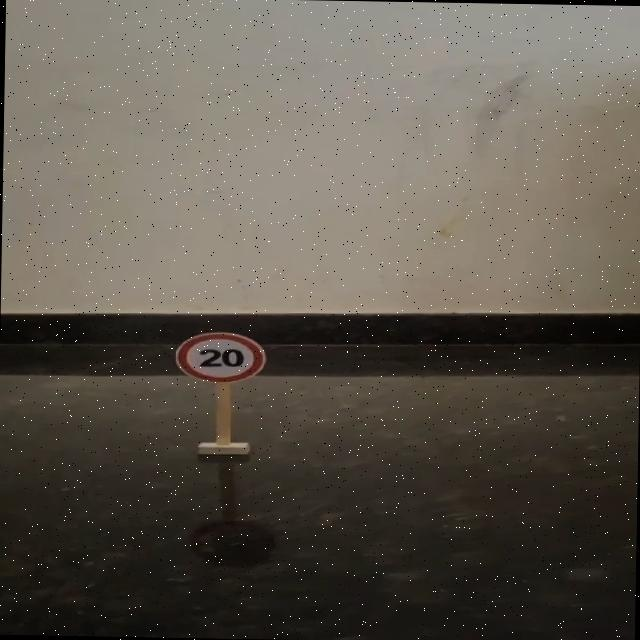Speed20: (167, 326, 274, 387)
